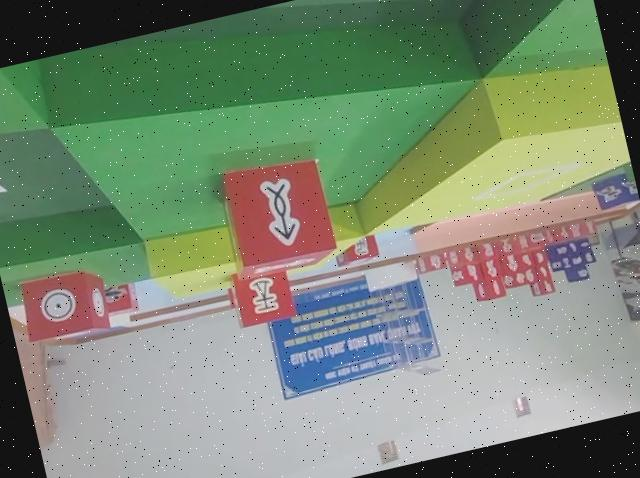R1: (100, 272, 142, 321)
R2 Fake: (328, 220, 383, 271)
R2 Real: (213, 150, 346, 285), (19, 262, 116, 352), (222, 257, 302, 334)
